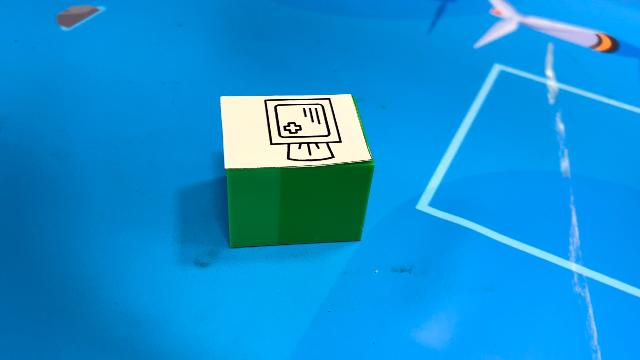napkin: (218, 92, 376, 248)
